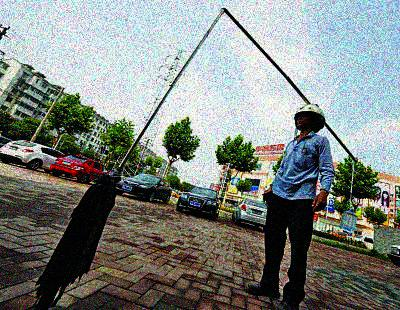helmet: (292, 103, 325, 133)
